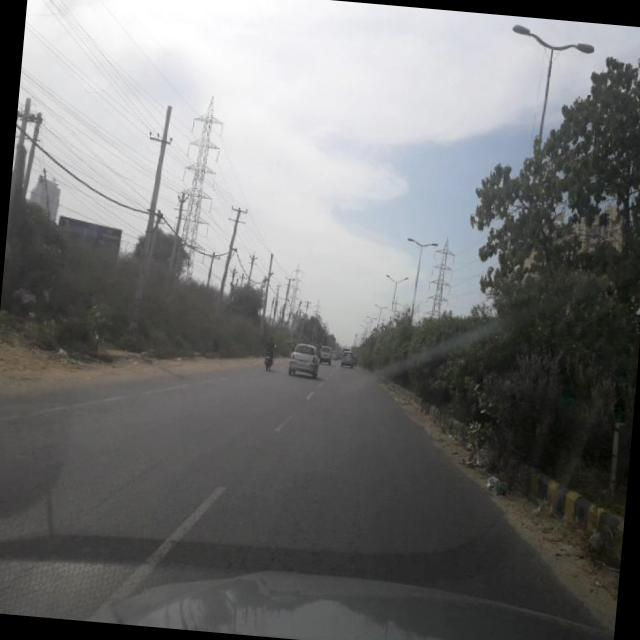crack: (198, 421, 460, 590)
pothole: (0, 402, 197, 602)
